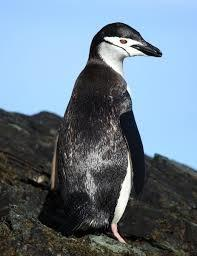chinstrap: (37, 17, 180, 245)
